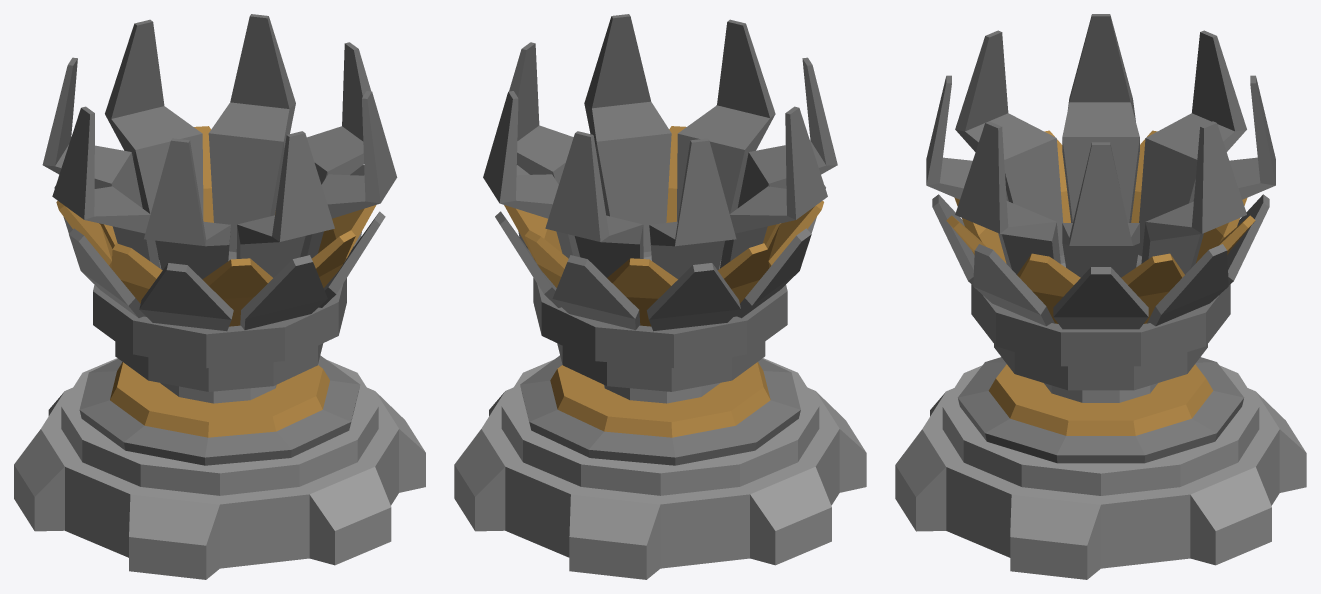
File: Props_Teleporter_2.glb
3 renders of one model, left to right at view 1: azimuth 30°, elevation 25°; view 2: azimuth 150°, elevation 25°; view 3: azimuth 270°, elevation 25°, orthographic.
Visible parts, largest first — view 1: Props_Teleporter_2; view 2: Props_Teleporter_2; view 3: Props_Teleporter_2.
Boxes of the visible parts, x1,y1,x2,y2 form: Props_Teleporter_2: [14, 14, 425, 579]; Props_Teleporter_2: [454, 14, 866, 579]; Props_Teleporter_2: [895, 14, 1306, 579].
Bounding box in the file's own units: 1.21 × 1.34 × 1.21.
